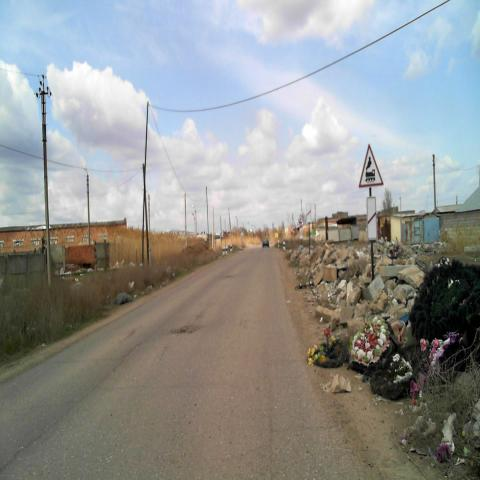1_2: (357, 142, 384, 188)
